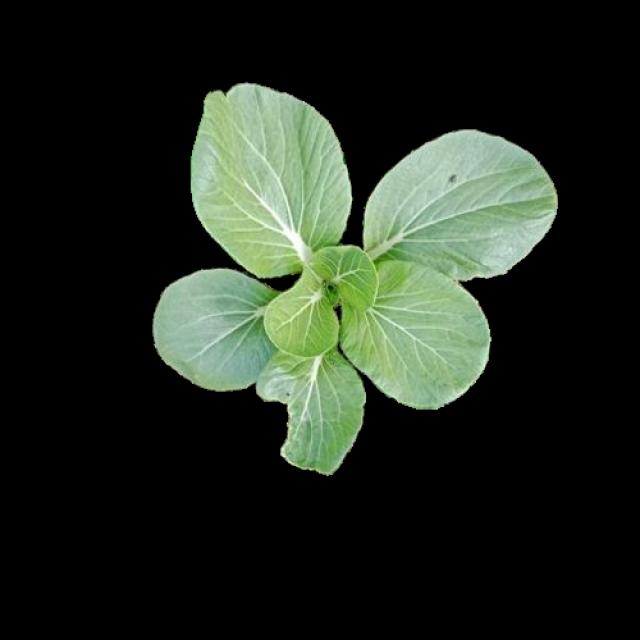not-mature: (153, 88, 560, 474)
unhealthy: (363, 129, 553, 283), (256, 351, 369, 472)
